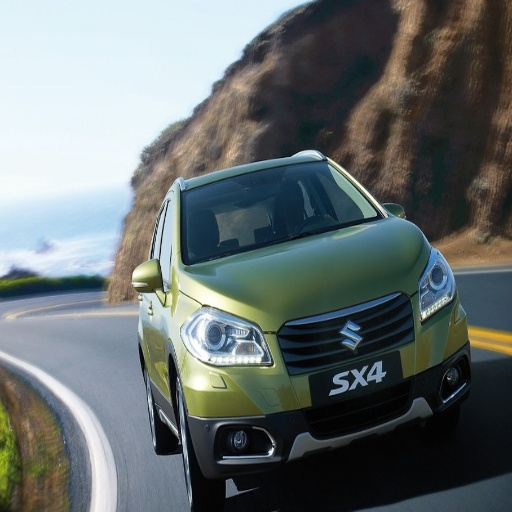back_glass: (277, 10, 390, 93)
front_bumper: (155, 291, 468, 477)
front_right_light: (186, 305, 275, 367)
trunk: (13, 318, 122, 417)
